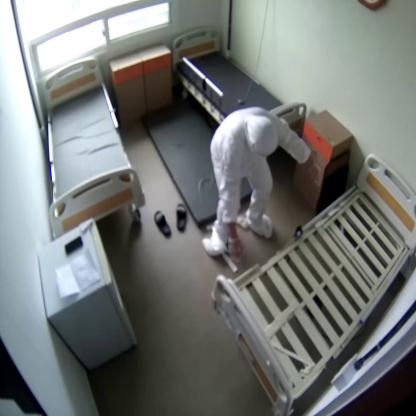Bed: (172, 27, 306, 135)
Person: (206, 108, 312, 265)
